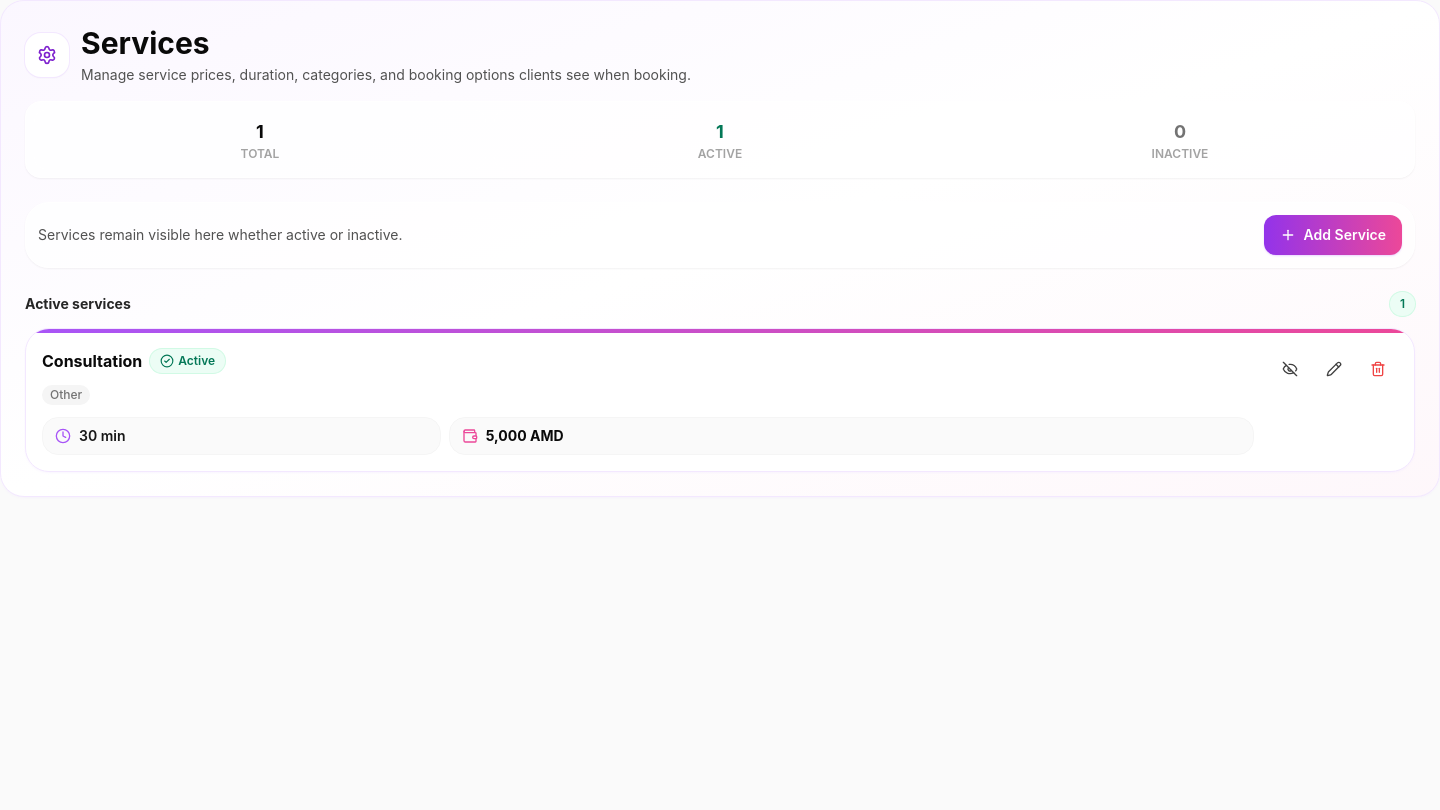
Test: ServicesManager › keeps the edit form open for a blank price without sending an update
Click the button titled "Edit" at (1334, 369), box [1314,349,1354,389]
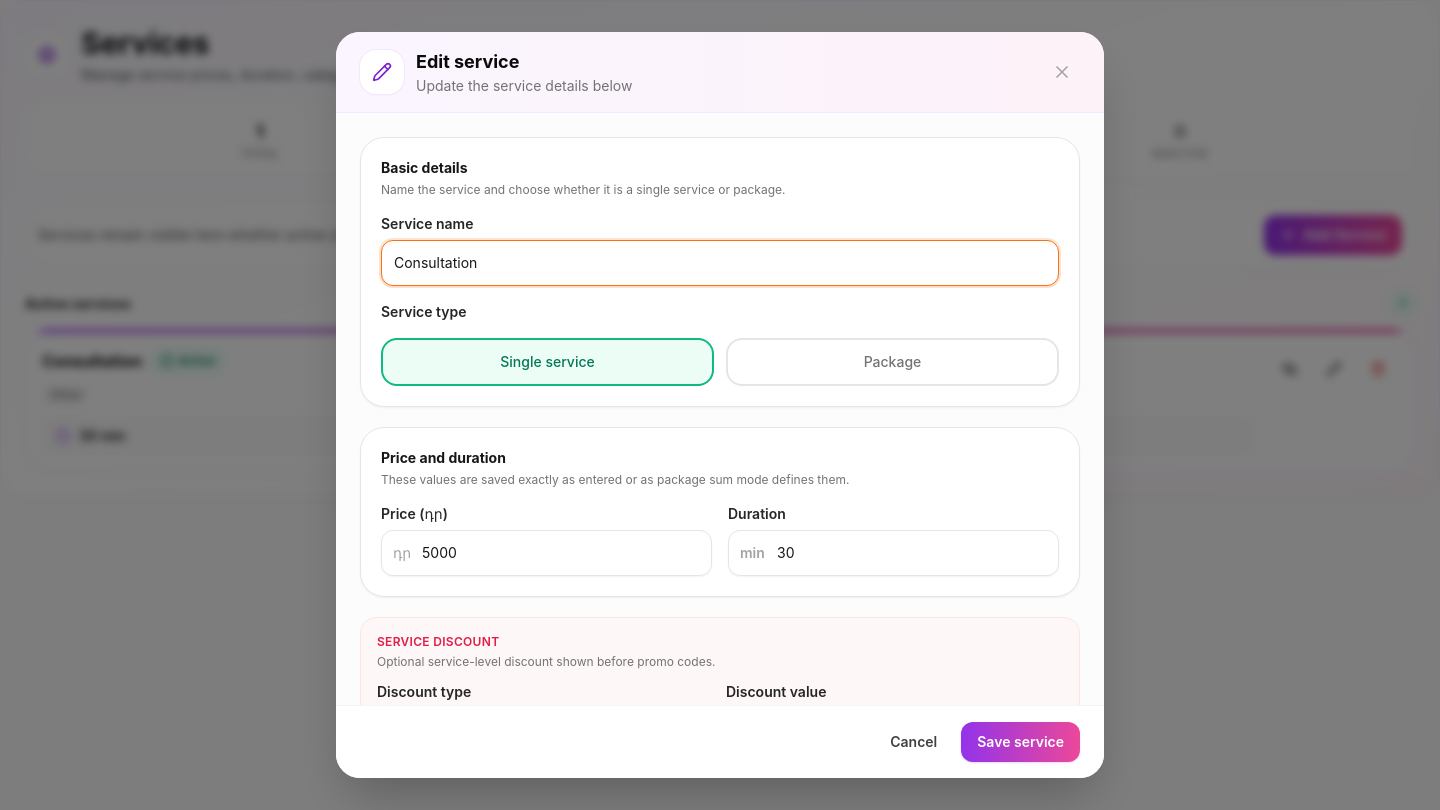
Clear the number field labelled "Price (դր) դր" at (546, 553), box [381,530,712,576]
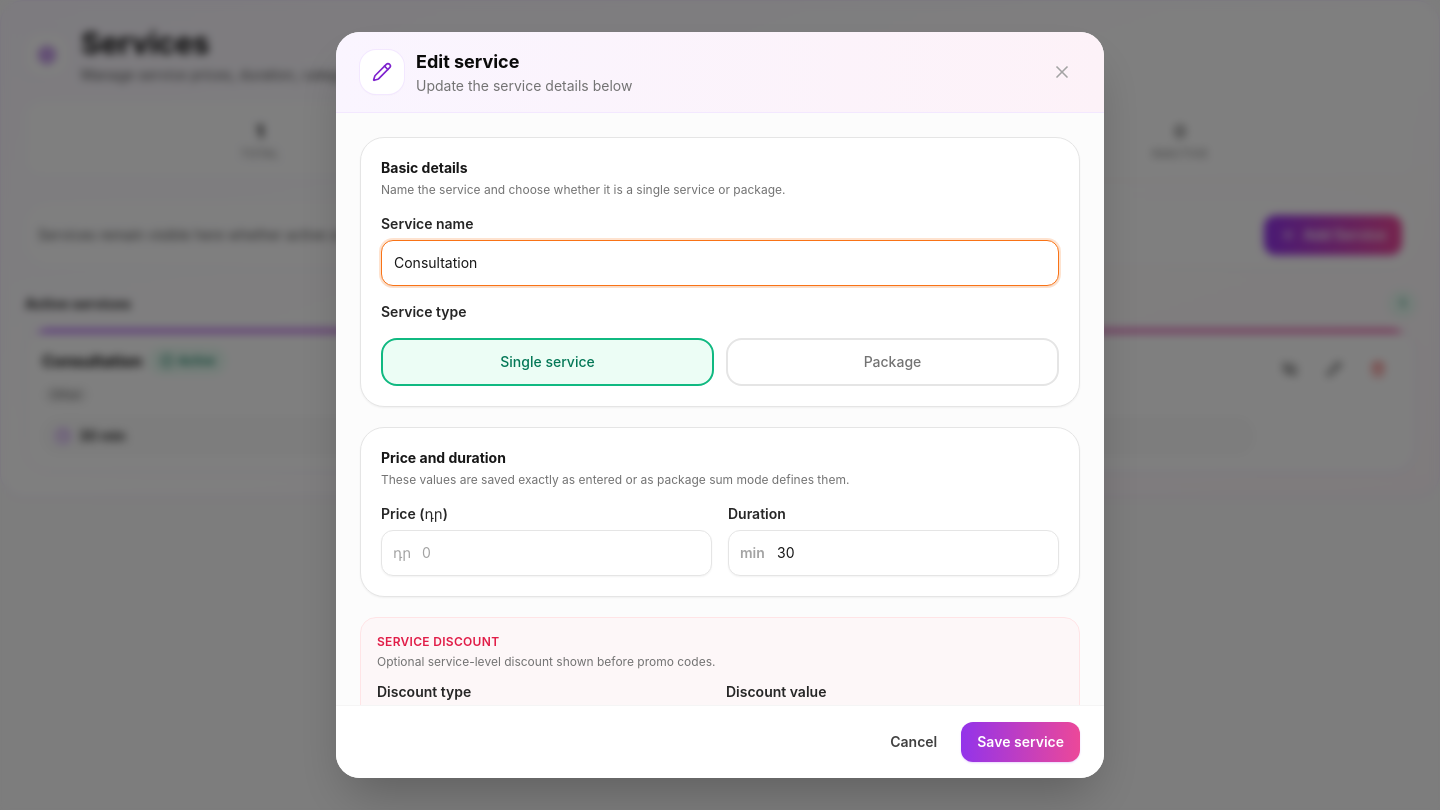
Click the button "Save service" at (1021, 742), box [961,722,1080,762]
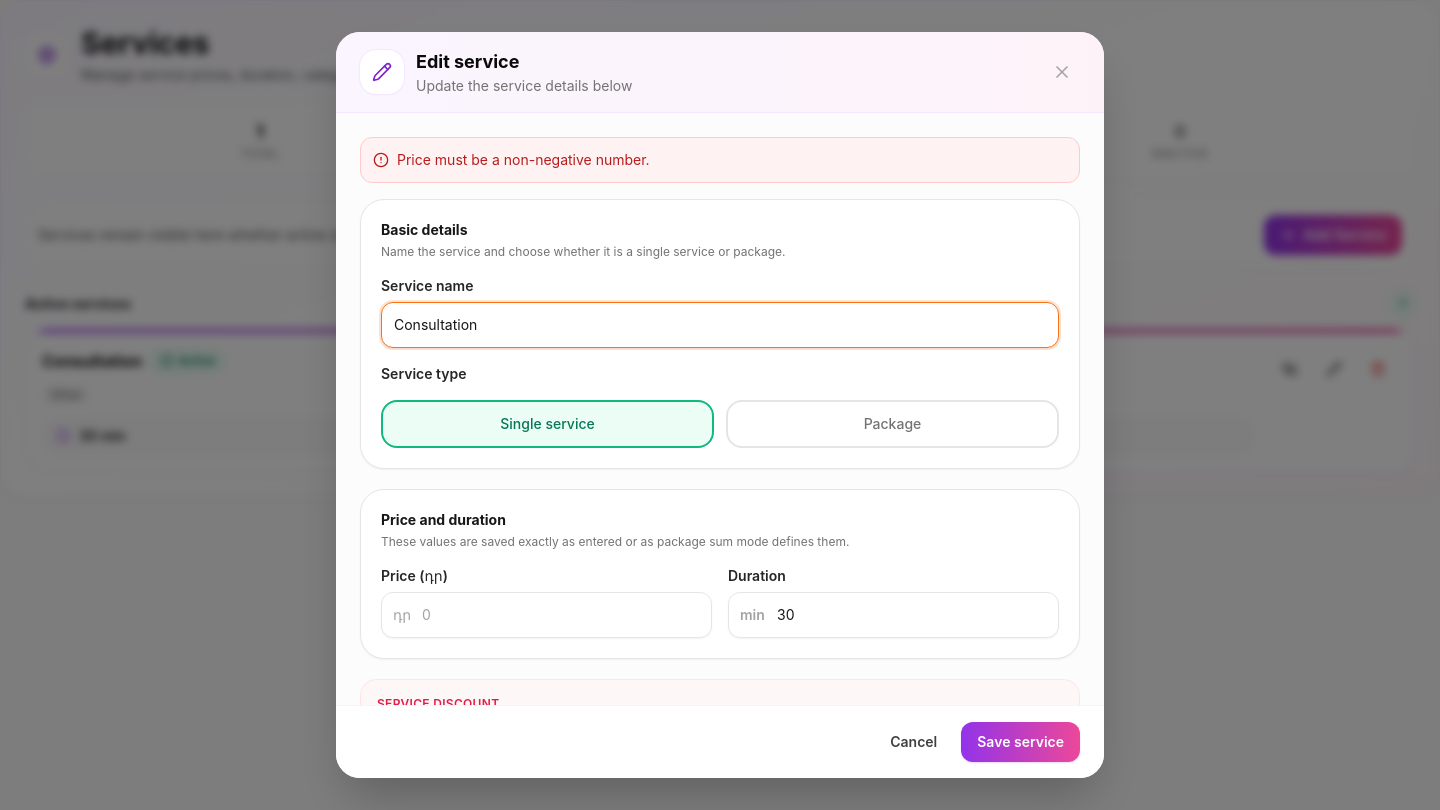
expect the dialog is shown: met, box [336,32,1104,778]
expect the field labelled "Service name" holds "Consultation": met, box [381,302,1059,348]
expect the text "Price must be a non-negative number." is shown: met, box [397,150,650,170]
